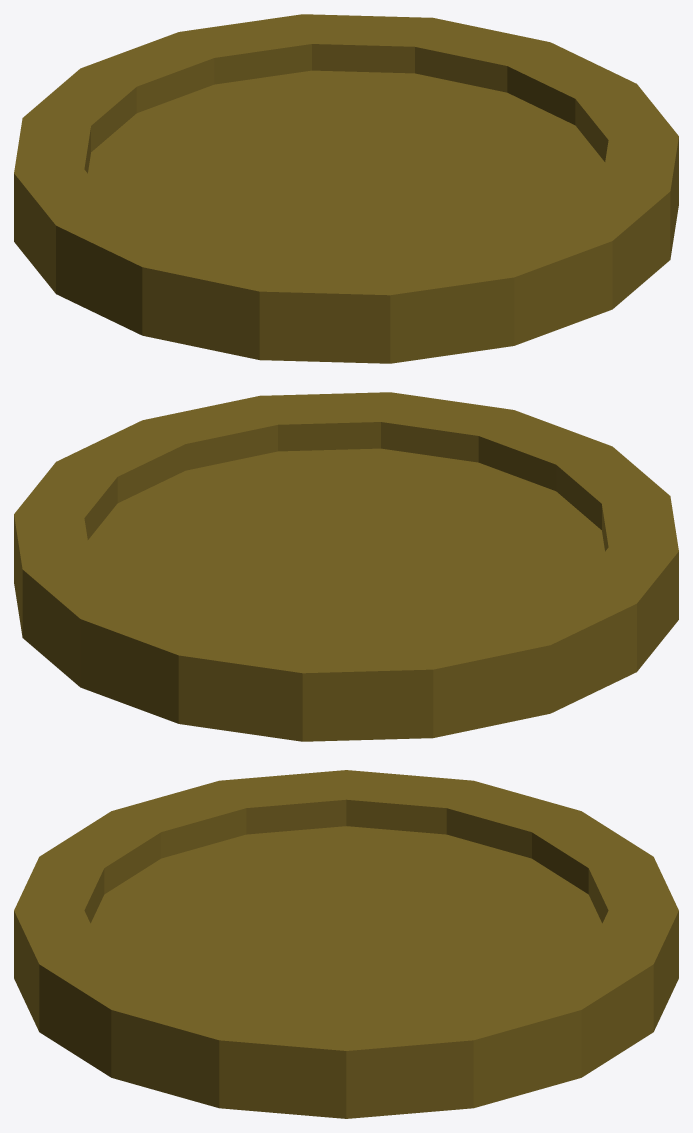
The model's file is coin03.obj.
3 views of the same model, one above another, from view 1: azimuth 30°, elevation 25°; view 2: azimuth 150°, elevation 25°; view 3: azimuth 270°, elevation 25° (orthographic).
Parts seen in each view (by area): view 1: Cylinder_Cylinder.002; view 2: Cylinder_Cylinder.002; view 3: Cylinder_Cylinder.002.
Boxes of the visible parts, x1,y1,x2,y2 form: Cylinder_Cylinder.002: (14,14,678,363); Cylinder_Cylinder.002: (14,392,678,741); Cylinder_Cylinder.002: (14,770,678,1118).
Bounding box in the file's own units: 0.04 × 0.00451 × 0.04.
